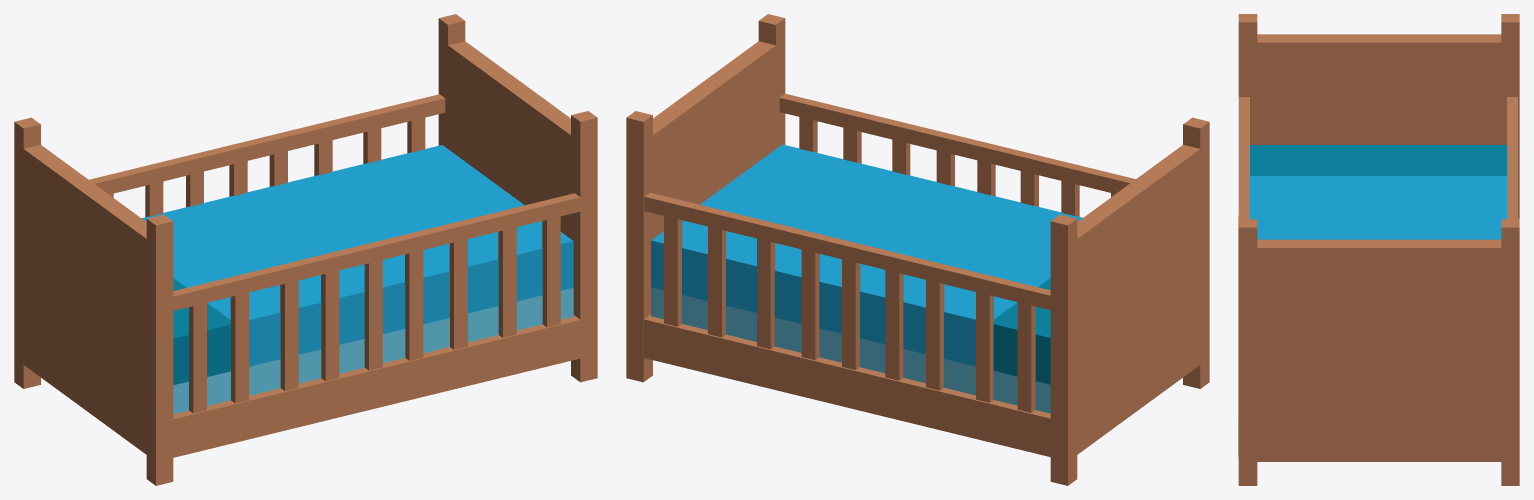
Rendered from crib.fbx.
3 renders of one model, left to right at view 1: azimuth 30°, elevation 25°; view 2: azimuth 150°, elevation 25°; view 3: azimuth 270°, elevation 25°, orthographic.
Visible parts, largest first — view 1: Cube.059, Cube.060, Cube.058, Cube.062, Cube.071, Cube.066, Cube.067, Cube.063, Cube.064, Cube.068, Cube.061, Cube.069 (+8 smaller); view 2: Cube.059, Cube.060, Cube.058, Cube.071, Cube.062, Cube.075, Cube.080, Cube.076, Cube.073, Cube.077, Cube.078, Cube.072 (+9 smaller); view 3: Cube.058, Cube.060, Cube.059, Cube.062, Cube.071.
Boxes of the visible parts, box(x1,y1,x2,y2) form: Cube.059: box(141, 145, 587, 458); Cube.060: box(14, 117, 173, 485); Cube.058: box(438, 14, 597, 382); Cube.062: box(173, 193, 580, 310); Cube.071: box(89, 94, 445, 194); Cube.066: box(405, 250, 423, 360); Cube.067: box(321, 270, 339, 381); Cube.063: box(364, 260, 382, 370); Cube.064: box(498, 227, 516, 337); Cube.068: box(280, 280, 298, 391); Cube.061: box(542, 216, 560, 327); Cube.069: box(230, 292, 248, 403); Cube.059: box(644, 144, 1082, 456); Cube.060: box(1050, 117, 1209, 485); Cube.058: box(626, 14, 785, 382); Cube.071: box(644, 192, 1050, 309); Cube.062: box(779, 93, 1135, 193); Cube.075: box(801, 249, 819, 360); Cube.080: box(1017, 302, 1035, 412); Cube.076: box(885, 270, 903, 380); Cube.073: box(708, 226, 726, 337); Cube.077: box(926, 280, 944, 390); Cube.078: box(664, 216, 682, 326); Cube.072: box(842, 259, 860, 369); Cube.058: box(1238, 219, 1519, 485); Cube.060: box(1238, 14, 1519, 219); Cube.059: box(1238, 145, 1518, 456); Cube.062: box(1238, 97, 1249, 219); Cube.071: box(1507, 97, 1517, 219).
Bounding box in the file's own units: 131 × 73.78 × 72.89.
